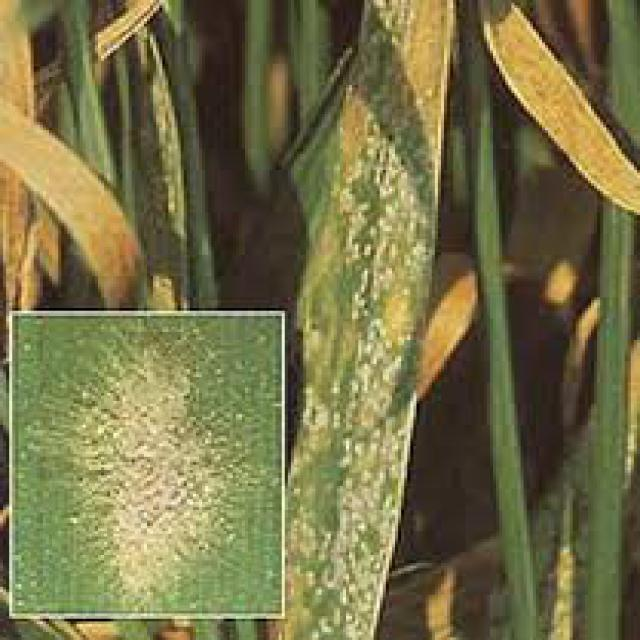wheat-powdery-mildew: (283, 0, 459, 640), (78, 332, 236, 609)
